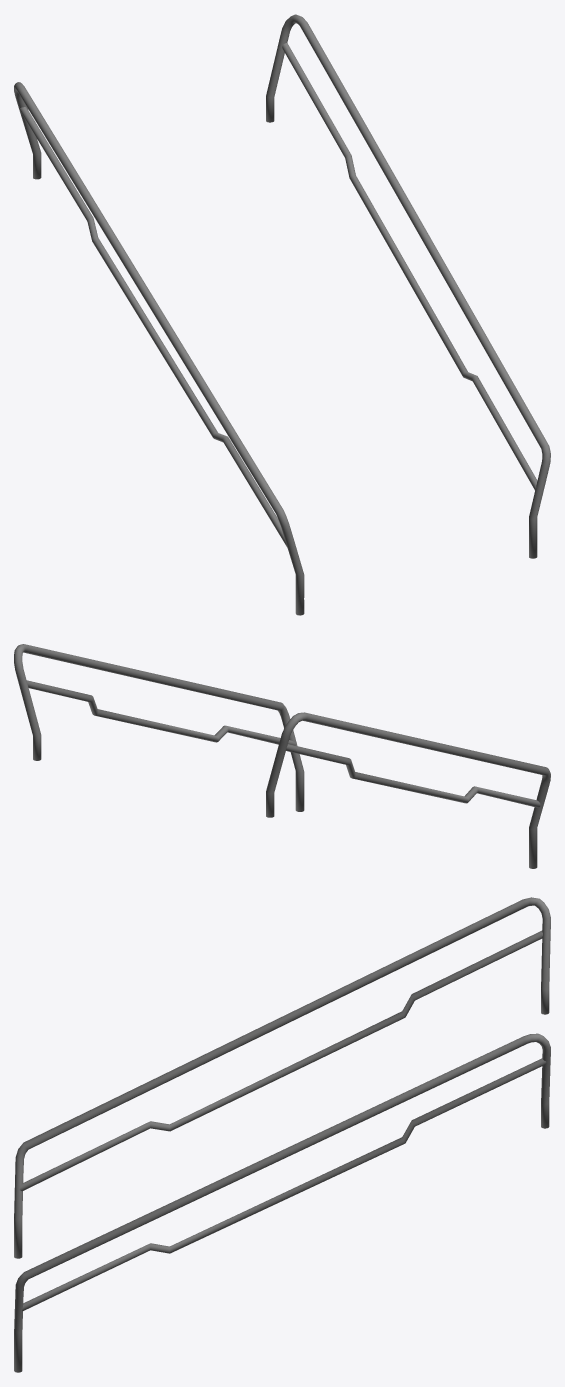
Rendered from q-scifi-mod-platform-rails-4.glb.
3 views of the same model, one above another, from view 1: azimuth 30°, elevation 25°; view 2: azimuth 150°, elevation 25°; view 3: azimuth 270°, elevation 25° (orthographic).
Visible parts, largest first — view 1: Platform_Rails_4; view 2: Platform_Rails_4; view 3: Platform_Rails_4.
Boxes of the visible parts, box(x1,y1,x2,y2) form: Platform_Rails_4: box(14, 14, 550, 615); Platform_Rails_4: box(14, 644, 550, 868); Platform_Rails_4: box(14, 897, 550, 1372).
Size of the model in its own units: 2.36 by 2.72 by 3.8.
Materials: 1 (1 with a texture image).
